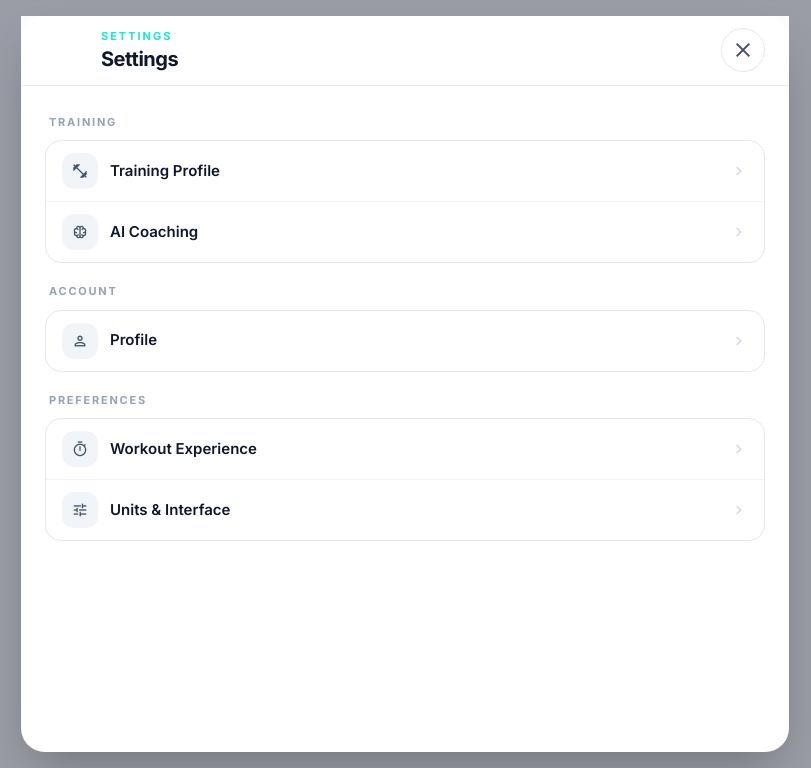
SettingsDrawer autosave › surfaces backend save errors in the header and keeps the local draft intact
This screenshot has width=811, height=768.
Click the button "Training Profile" at (80, 171), box x1=46 y1=141 x2=764 y2=201
(page scrolled)
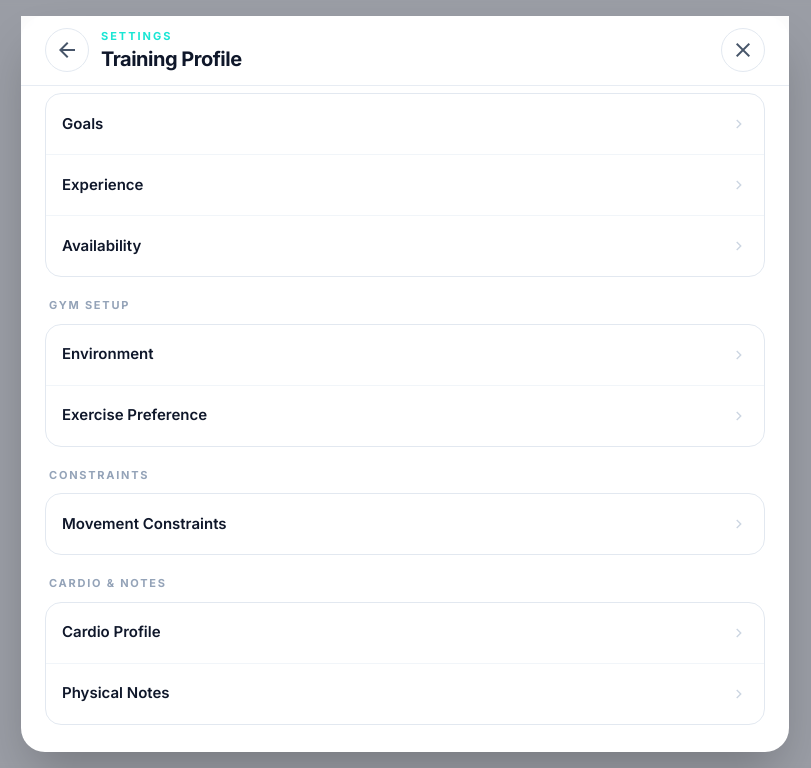
Now the heading "Training Profile" is shown, box x1=101 y1=44 x2=242 y2=72
Click the button "Physical Notes" at (116, 693), box x1=46 y1=662 x2=764 y2=724
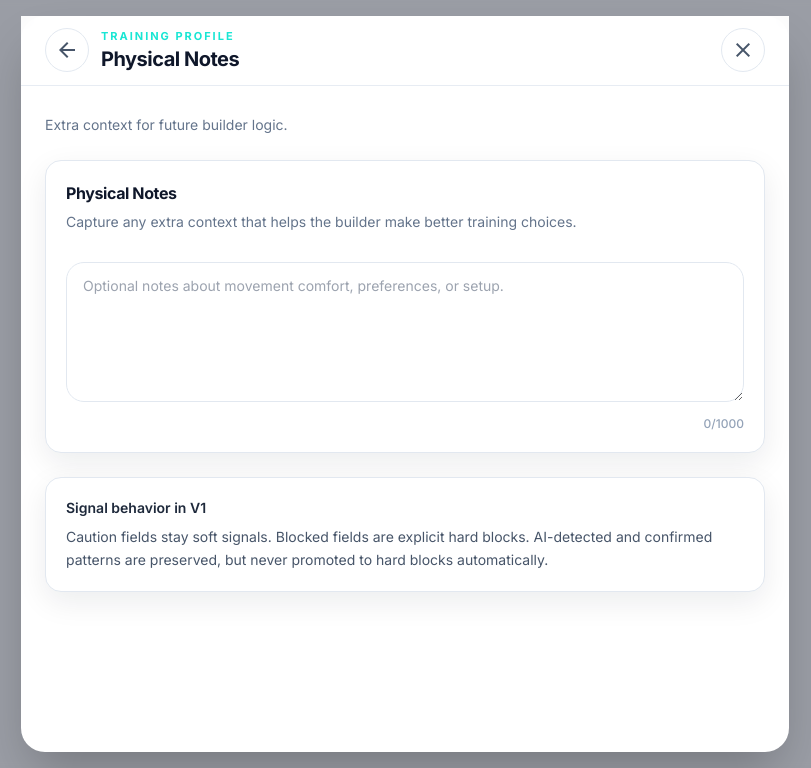
Replace the text in the text box with placeholder "Optional notes" with "Keep this note" at (405, 332), box x1=66 y1=262 x2=744 y2=402
Wait 700 ms
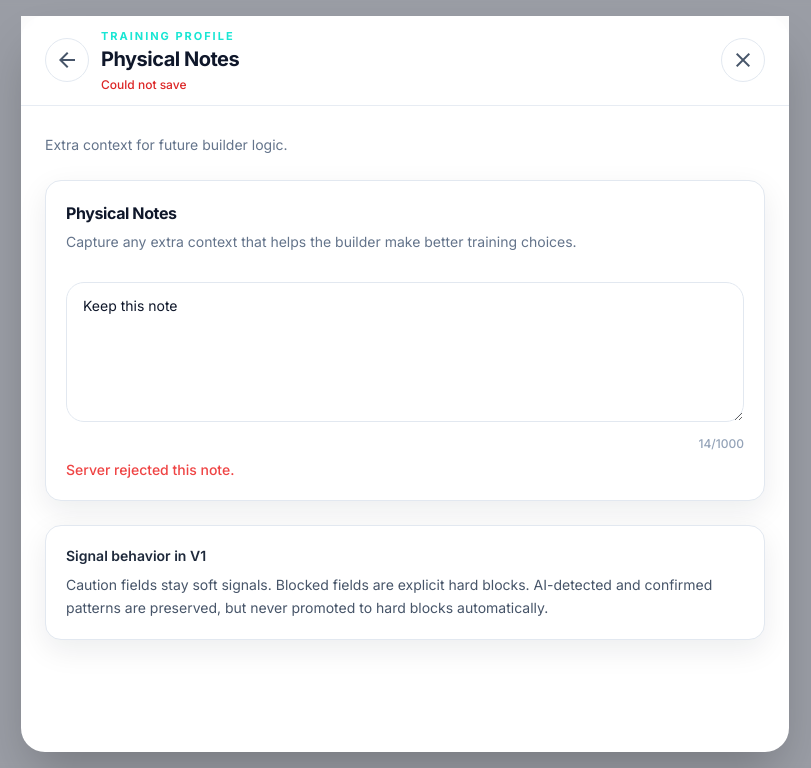
Now the text "Could not save" is shown, box x1=101 y1=76 x2=186 y2=92
Now the text "Server rejected this note." is shown, box x1=66 y1=461 x2=234 y2=478
